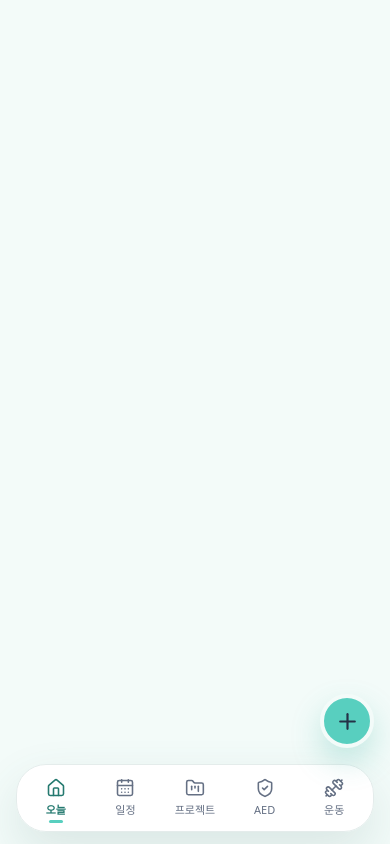
Test case: MobileBottomNavigation › opens the existing exercise record route before closing the create sheet
Click the button named "빠른 새로 만들기" at (347, 721), box [320,694,374,748]
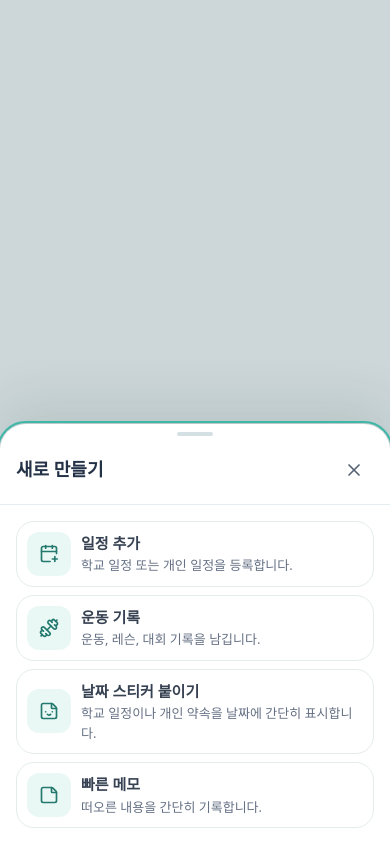
Click the link "운동 기록 운동, 레슨, 대회 기록을 남깁니다." at (195, 628), box [16,594,374,660]
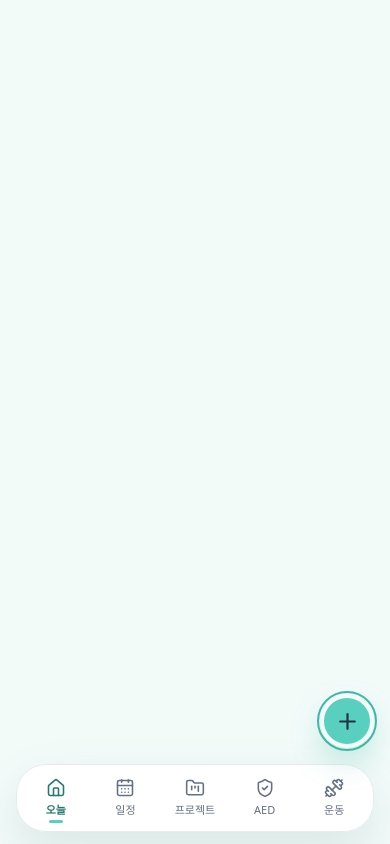
Expected: the heading "새로 만들기" is gone
